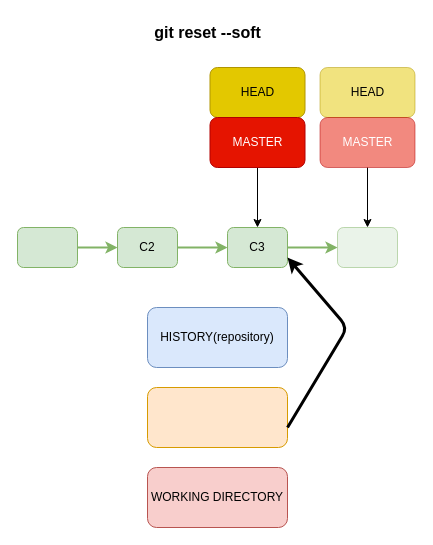
This 433x545 diagram has some shape labels left out. Here are the shapes that lost their labels. From the top down, the box of each, then its label:
(16, 226, 78, 268): C!
(336, 226, 398, 268): C4
(146, 386, 288, 448): STAGING AREA(index)
